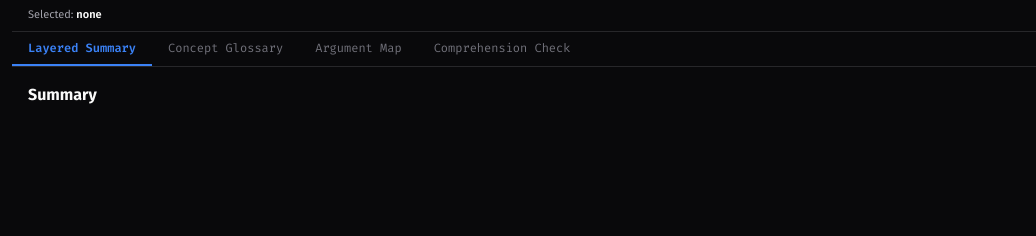
Test case: DetailPanelShell (with tabs) › switches to Comprehension Check tab on click
Click the tab "Comprehension Check" at {"x": 502, "y": 49}, box [418,32,586,66]
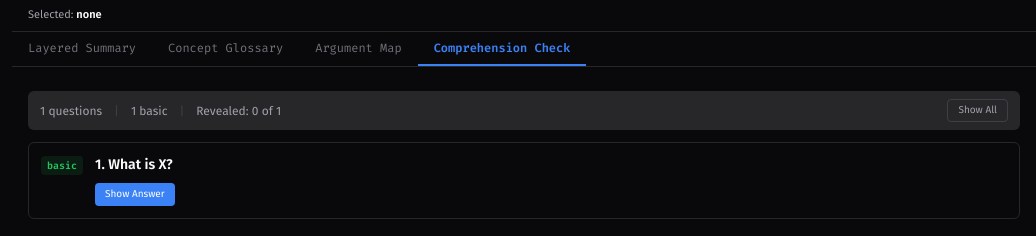
Expected: the text "1. What is X?" is shown, [95,156,173,173]
